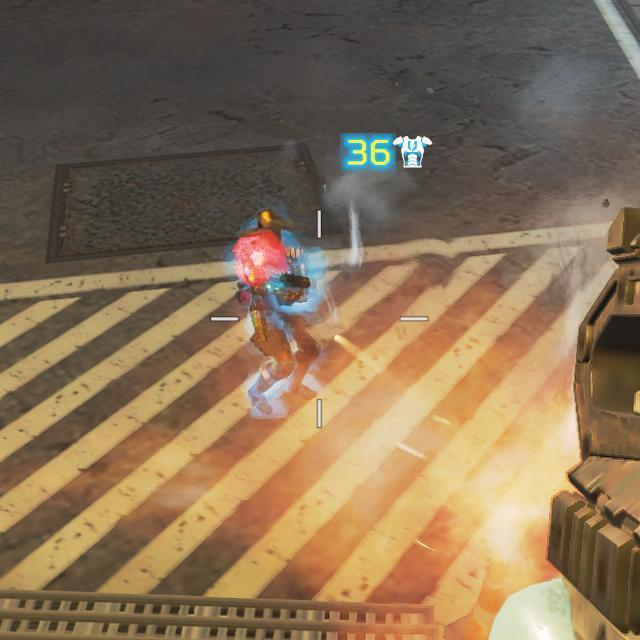avatar: (223, 208, 328, 420)
object: (231, 229, 287, 288)
